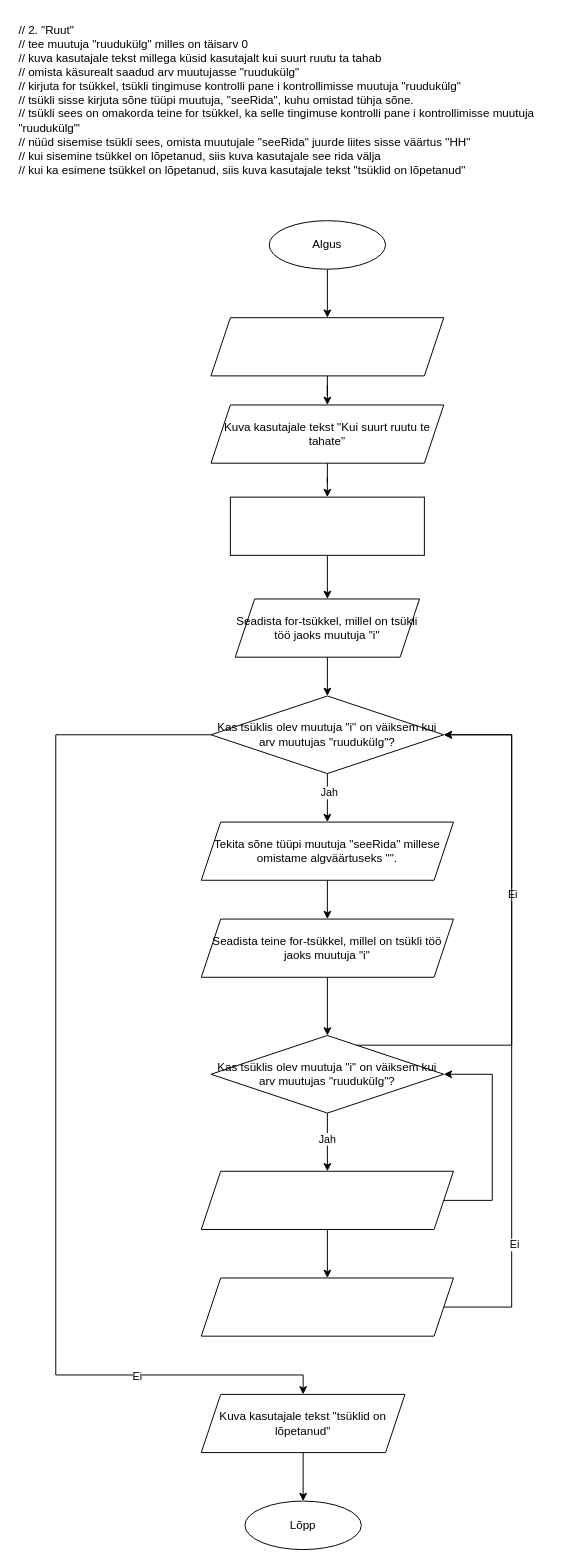
This 576x1567 diagram has some shape labels left out. Here are the shapes that lost their labels. From the top down, the box of each, then its label:
(210, 317, 444, 376): Tekita täisarvutüüpi muutuja "ruudukülg" kuhu omistad algväärtuse 0
(229, 496, 424, 555): Oota kuni kasutaja sisestab käsureale muutujasse "ruudukülg" omistatava arvu
(200, 1170, 453, 1229): Lisa muutujale "seeRida" olemasolevale väärtusele sõne "HH".
(200, 1277, 453, 1336): Kuva kasutajale muutuja "seeRida"
